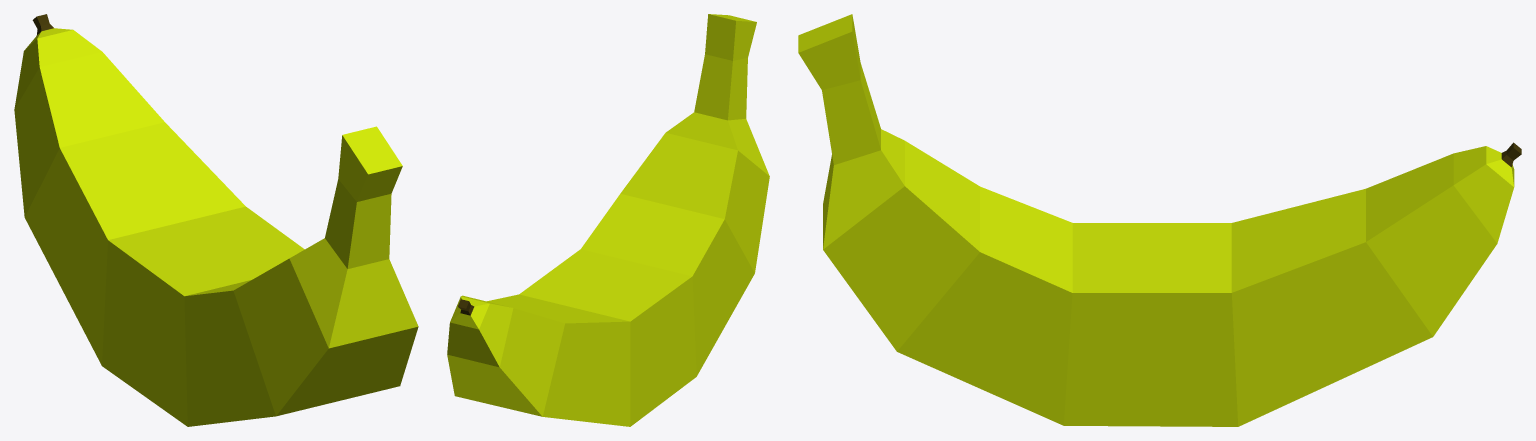
The model's file is banana.fbx.
3 views of the same model, side by side, from view 1: azimuth 30°, elevation 25°; view 2: azimuth 150°, elevation 25°; view 3: azimuth 270°, elevation 25° (orthographic). The views are drawn at different scales.
Visible parts, largest first — view 1: Cube; view 2: Cube; view 3: Cube.
Part boxes in pixels (box(x1,y1,x2,y2)): Cube: box(14, 28, 418, 426); Cube: box(447, 14, 769, 426); Cube: box(798, 14, 1514, 426).
Bounding box in the file's own units: 175 × 410 × 731.
